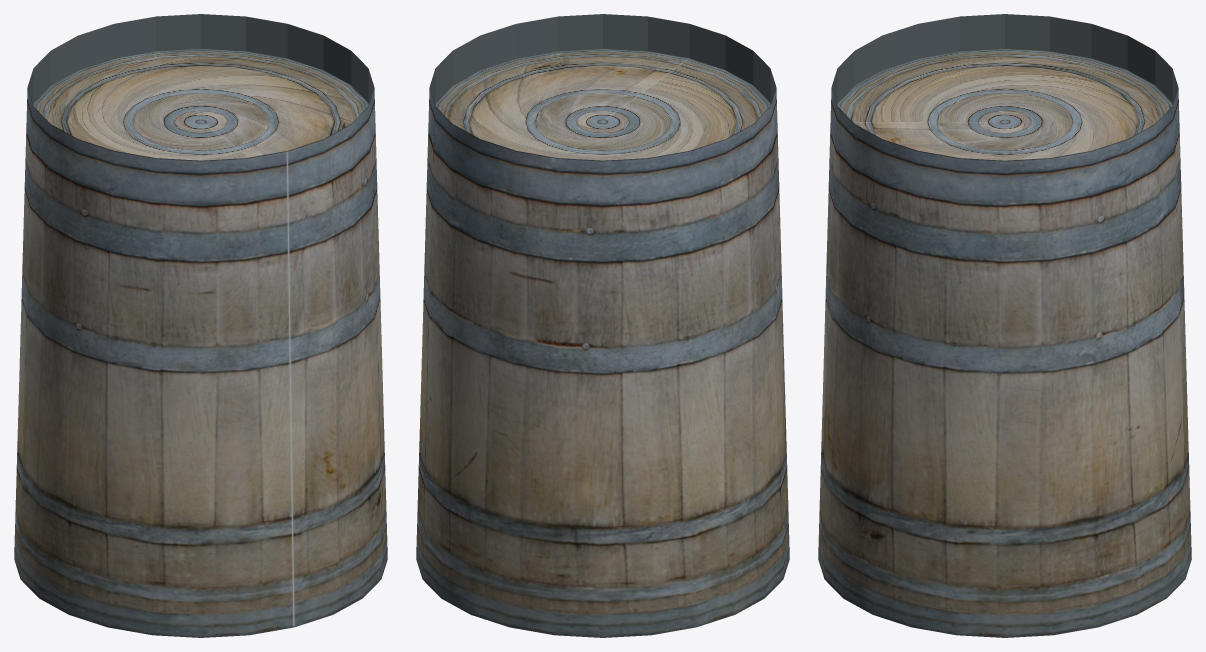
3 renders of one model, left to right at view 1: azimuth 30°, elevation 25°; view 2: azimuth 150°, elevation 25°; view 3: azimuth 270°, elevation 25°, orthographic.
Parts seen in each view (by area): view 1: Cylinder; view 2: Cylinder; view 3: Cylinder.
Part boxes in pixels (bbox=[...]): Cylinder: bbox=[14, 14, 387, 637]; Cylinder: bbox=[416, 14, 789, 637]; Cylinder: bbox=[818, 14, 1191, 637].
Bounding box in the file's own units: 2.8 × 3.9 × 2.8.
Materials: 1 (1 with a texture image).
